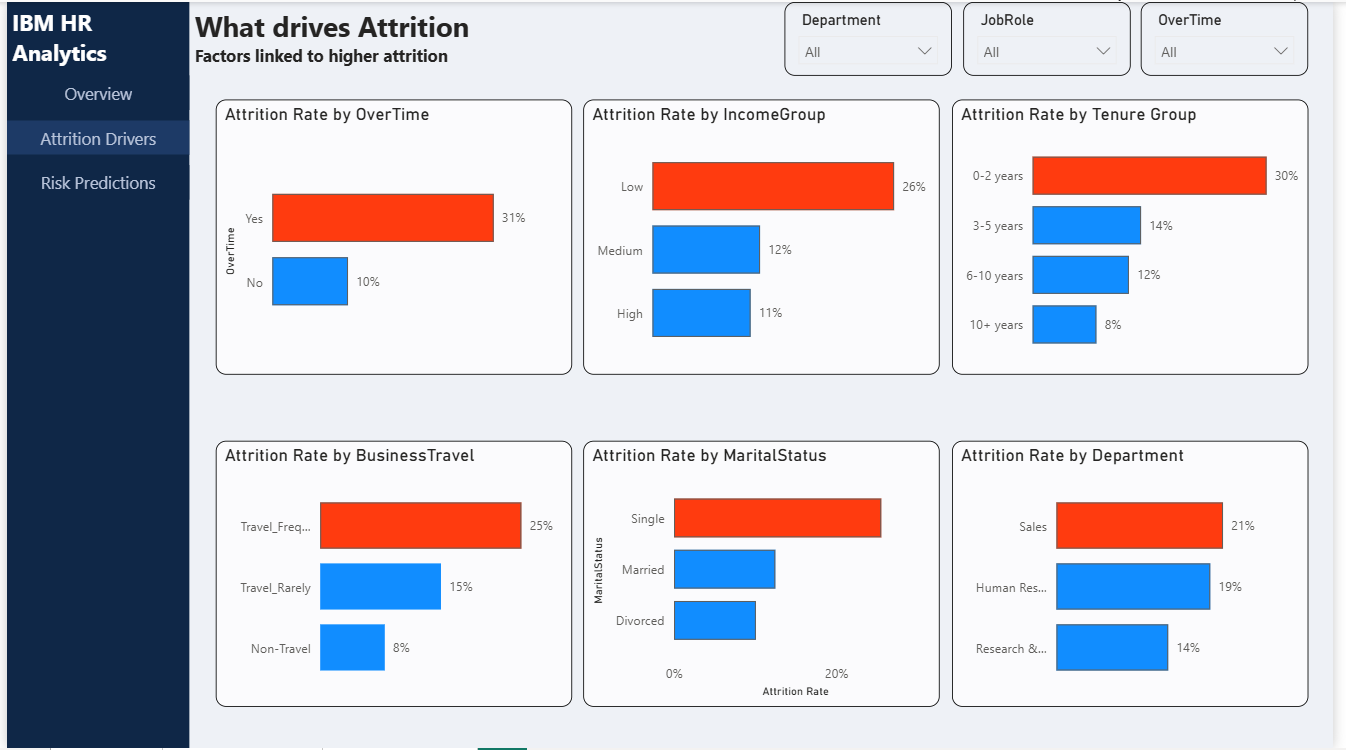

This screenshot's page, from the dashboard's own definition file:
{"tool":"powerbi","page":{"name":"Attrition Drivers","canvas":[1280,720],"ordinal":1},"visuals":[{"type":"shape","box":[0,0,176,720.2],"z":0},{"type":"pageNavigator","box":[0,71.2,176.1,120.6],"z":1000},{"type":"textbox","box":[0,0,176.1,71.2],"z":2000},{"type":"textbox","box":[176.1,0,1103.9,71.2],"z":3000},{"type":"clusteredBarChart","fields":{"Category":["public ibm_hr_project.OverTime"],"Y":["public hr_predictions.Attrition Rate"]},"box":[201.5,94.1,343.8,265.4],"z":4000},{"type":"clusteredBarChart","fields":{"Category":["public ibm_hr_project.BusinessTravel"],"Y":["public hr_predictions.Attrition Rate"]},"box":[201.5,423.5,343.8,257],"z":5000},{"type":"clusteredBarChart","fields":{"Category":["public ibm_hr_project.IncomeGroup"],"Y":["public hr_predictions.Attrition Rate"]},"box":[556.8,94.1,343.8,265.4],"z":6000},{"type":"clusteredBarChart","fields":{"Y":["public hr_predictions.Attrition Rate"],"Category":["public ibm_hr_project.Department"]},"box":[912.1,423.5,343.8,257],"z":7000},{"type":"clusteredBarChart","fields":{"Y":["public hr_predictions.Attrition Rate"],"Category":["public ibm_hr_project.Tenure Group"]},"box":[912.1,94.1,343.8,265.4],"z":8000},{"type":"clusteredBarChart","fields":{"Y":["public hr_predictions.Attrition Rate"],"Category":["public ibm_hr_project.MaritalStatus"]},"box":[556.8,423.5,343.8,257],"z":9000},{"type":"slicer","fields":{"Values":["public ibm_hr_project.Department"]},"box":[750.4,0,161.7,71.2],"z":10000},{"type":"slicer","fields":{"Values":["public ibm_hr_project.OverTime"]},"box":[1094.2,0,161.7,71.2],"z":11000},{"type":"slicer","fields":{"Values":["public ibm_hr_project.JobRole"]},"box":[922.9,0,161.7,71.2],"z":12000}]}

Visuals, with their boxes on the page's 1280x720 design canvas (x1, y1, x2, y2). These are canvas units, not pixel positions in the 1346x750 screenshot, which may show the page scaled, cropped or inside an application window:
shape: (left=0, top=0, right=176, bottom=720)
pageNavigator: (left=0, top=71, right=176, bottom=192)
textbox: (left=0, top=0, right=176, bottom=71)
textbox: (left=176, top=0, right=1280, bottom=71)
clusteredBarChart - public ibm_hr_project.OverTime x public hr_predictions.Attrition Rate: (left=202, top=94, right=545, bottom=360)
clusteredBarChart - public ibm_hr_project.BusinessTravel x public hr_predictions.Attrition Rate: (left=202, top=424, right=545, bottom=680)
clusteredBarChart - public ibm_hr_project.IncomeGroup x public hr_predictions.Attrition Rate: (left=557, top=94, right=901, bottom=360)
clusteredBarChart - public hr_predictions.Attrition Rate x public ibm_hr_project.Department: (left=912, top=424, right=1256, bottom=680)
clusteredBarChart - public hr_predictions.Attrition Rate x public ibm_hr_project.Tenure Group: (left=912, top=94, right=1256, bottom=360)
clusteredBarChart - public hr_predictions.Attrition Rate x public ibm_hr_project.MaritalStatus: (left=557, top=424, right=901, bottom=680)
slicer - public ibm_hr_project.Department: (left=750, top=0, right=912, bottom=71)
slicer - public ibm_hr_project.OverTime: (left=1094, top=0, right=1256, bottom=71)
slicer - public ibm_hr_project.JobRole: (left=923, top=0, right=1085, bottom=71)
